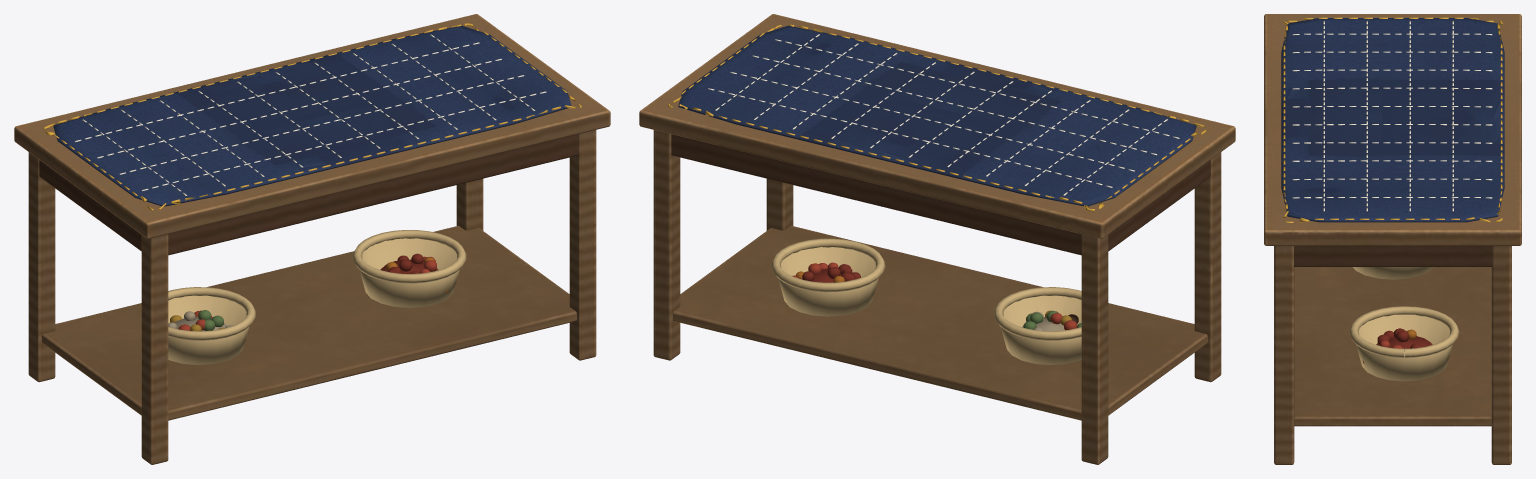
Rendered from work_table_indigo.glb.
3 views of the same model, side by side, from view 1: azimuth 30°, elevation 25°; view 2: azimuth 150°, elevation 25°; view 3: azimuth 270°, elevation 25° (orthographic). The views are drawn at different scales.
Visible parts, largest first — view 1: work_table_indigo_wood, work_table_indigo_felt_indigo, work_table_indigo_hemp, work_table_indigo_wood_dark, work_table_indigo_thread, work_table_indigo_thread_gold; view 2: work_table_indigo_wood, work_table_indigo_felt_indigo, work_table_indigo_hemp, work_table_indigo_wood_dark, work_table_indigo_thread, work_table_indigo_thread_gold, work_table_indigo_felt_red_dark; view 3: work_table_indigo_wood, work_table_indigo_felt_indigo, work_table_indigo_hemp, work_table_indigo_wood_dark, work_table_indigo_thread, work_table_indigo_thread_gold, work_table_indigo_felt_red_dark.
Boxes of the visible parts, x1,y1,x2,y2 form: work_table_indigo_wood: (14, 14, 610, 464); work_table_indigo_felt_indigo: (53, 25, 571, 206); work_table_indigo_hemp: (168, 230, 466, 364); work_table_indigo_wood_dark: (39, 134, 578, 255); work_table_indigo_thread: (75, 34, 546, 195); work_table_indigo_thread_gold: (43, 23, 581, 210); work_table_indigo_wood: (639, 14, 1235, 464); work_table_indigo_felt_indigo: (678, 25, 1196, 206); work_table_indigo_hemp: (771, 238, 1081, 364); work_table_indigo_wood_dark: (671, 134, 1210, 255); work_table_indigo_thread: (708, 34, 1179, 195); work_table_indigo_thread_gold: (668, 24, 1206, 211); work_table_indigo_felt_red_dark: (802, 264, 860, 282); work_table_indigo_wood: (1264, 14, 1521, 464); work_table_indigo_felt_indigo: (1281, 18, 1504, 222); work_table_indigo_hemp: (1349, 267, 1459, 381); work_table_indigo_wood_dark: (1294, 246, 1491, 266); work_table_indigo_thread: (1292, 21, 1492, 211); work_table_indigo_thread_gold: (1283, 17, 1502, 222); work_table_indigo_felt_red_dark: (1376, 328, 1432, 348).
Size of the model in its own units: 1.8 by 0.9407 by 0.9.
Materials: 13 (10 with a texture image).
